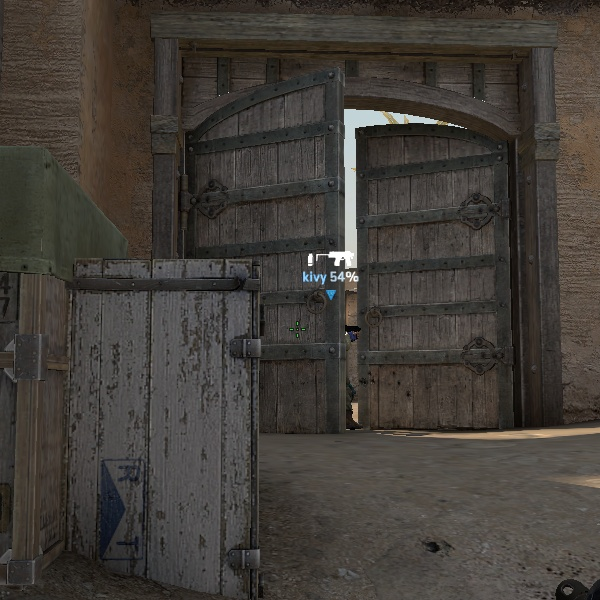ct_body: (345, 319, 356, 432)
